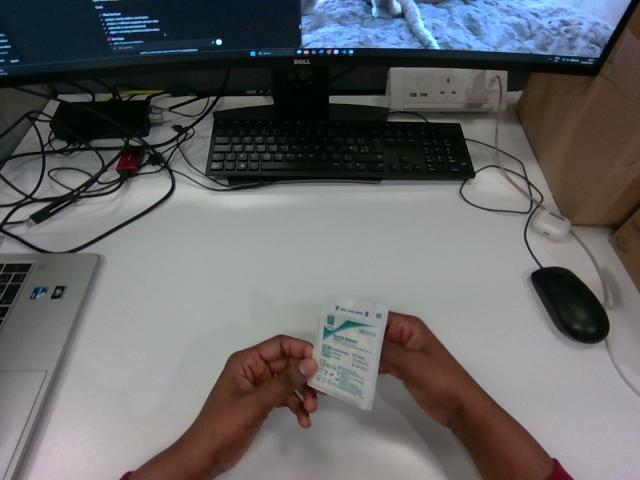gauze: (308, 299, 387, 409)
